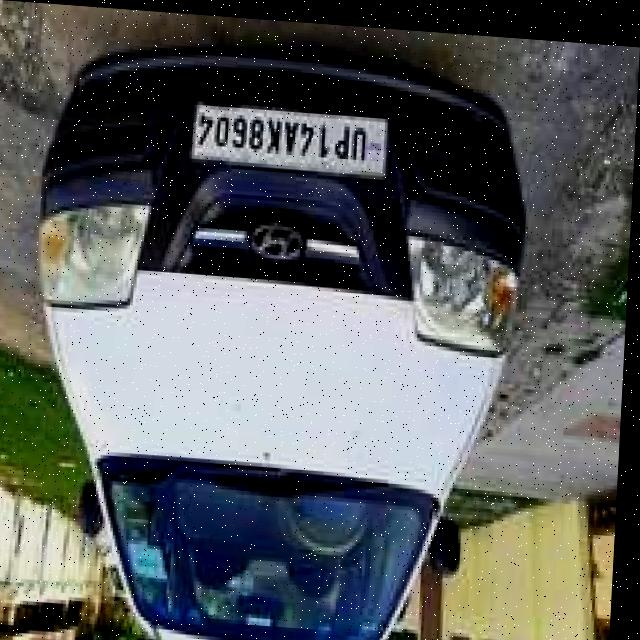plate: (192, 96, 395, 177)
